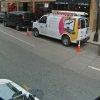Car: (1, 72, 38, 100)
